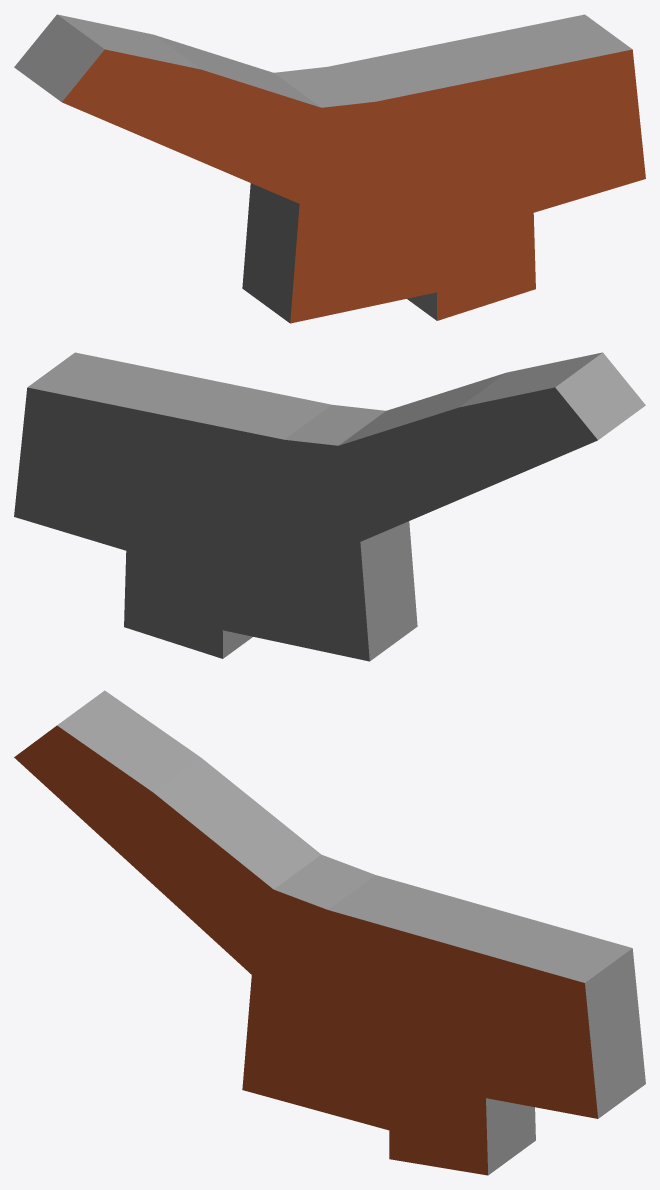
The model's file is construction_6436_assumed_A_Casa_h6m.obj.
3 renders of one model, top to bottom at view 1: azimuth 30°, elevation 25°; view 2: azimuth 150°, elevation 25°; view 3: azimuth 330°, elevation 25°, orthographic.
Parts seen in each view (by area): view 1: construction_6436_assumed_A_Casa; view 2: construction_6436_assumed_A_Casa; view 3: construction_6436_assumed_A_Casa.
Boxes of the visible parts, <box> form: construction_6436_assumed_A_Casa: <box>14,14,645,323</box>; construction_6436_assumed_A_Casa: <box>14,352,645,661</box>; construction_6436_assumed_A_Casa: <box>14,690,645,1175</box>.
Bounding box in the file's own units: 42.32 × 24.42 × 6.
